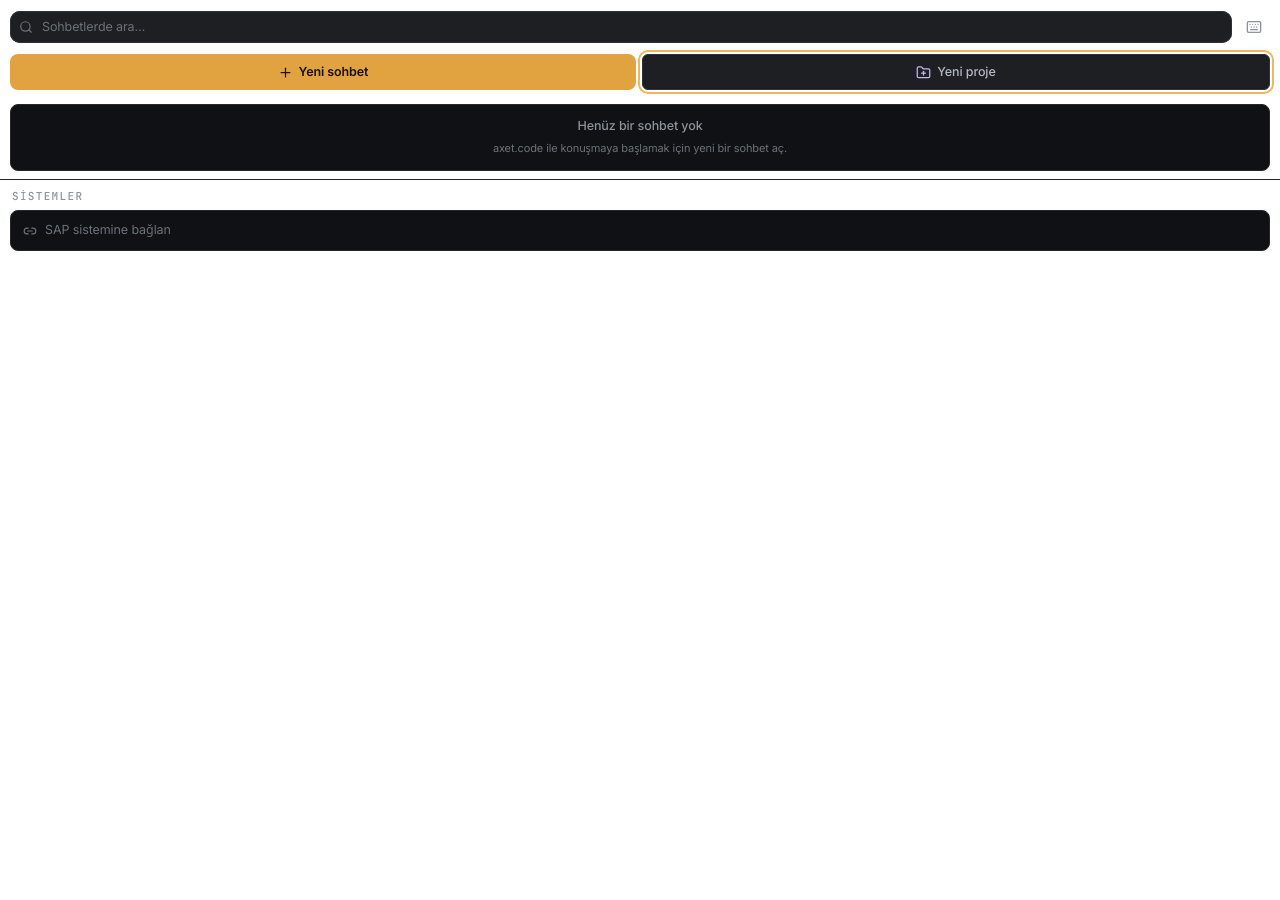
it: ChatProjectDialog — İptal sonrası odak › Yeni proje ile açılıp İptal'le kapanınca odak Yeni proje düğmesinde
Click the button titled "Yeni proje" at (956, 72), box left=642, top=54, right=1270, bottom=90
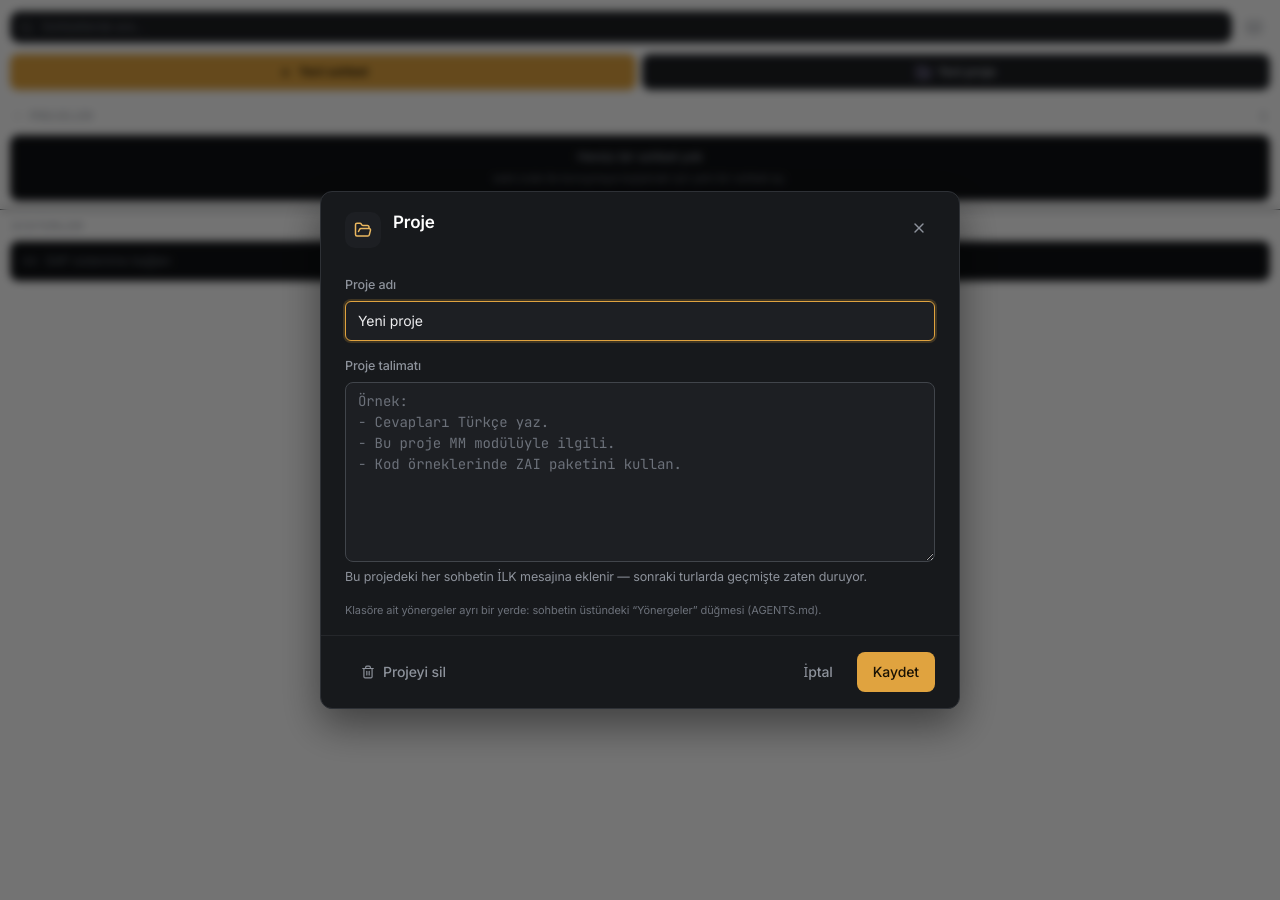
Expected: the dialog is shown, left=320, top=191, right=960, bottom=709
Click the button "İptal" at (818, 672), box left=788, top=652, right=849, bottom=692
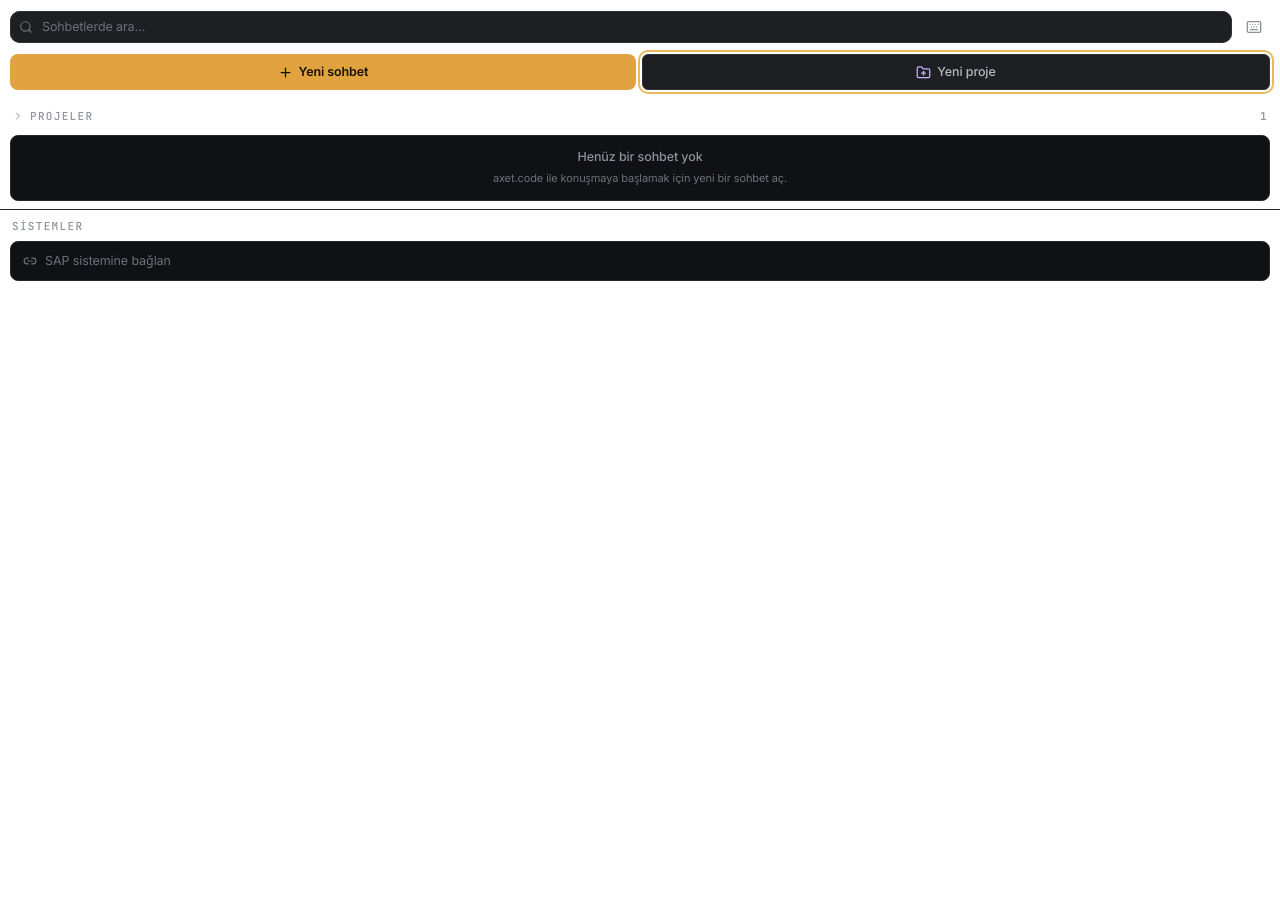
Expected: the dialog is gone
